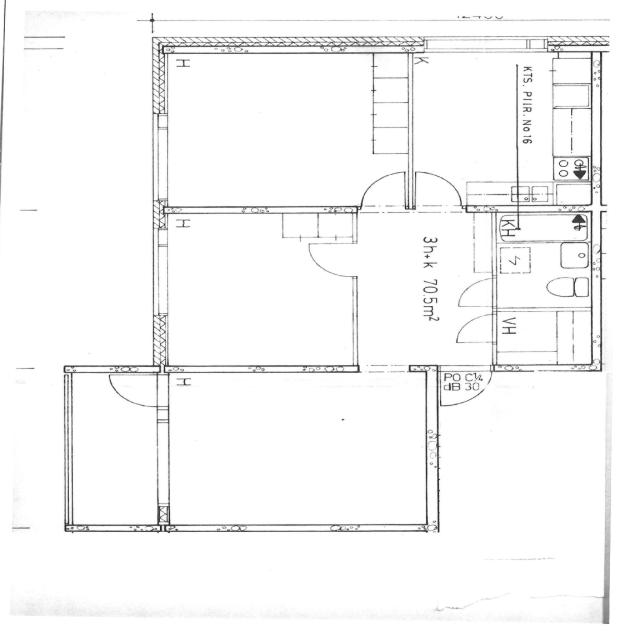door: (408, 167, 468, 213), (355, 168, 412, 213), (438, 366, 494, 410), (106, 371, 166, 410), (304, 240, 359, 278), (450, 311, 498, 347), (451, 276, 498, 310)
window: (143, 224, 179, 320), (146, 116, 176, 205), (422, 36, 550, 54), (82, 522, 142, 536)
zone: (160, 366, 434, 531), (158, 51, 404, 209), (405, 47, 602, 212), (157, 212, 357, 373), (350, 211, 494, 371), (65, 374, 166, 530), (494, 240, 591, 310), (491, 308, 596, 370)
